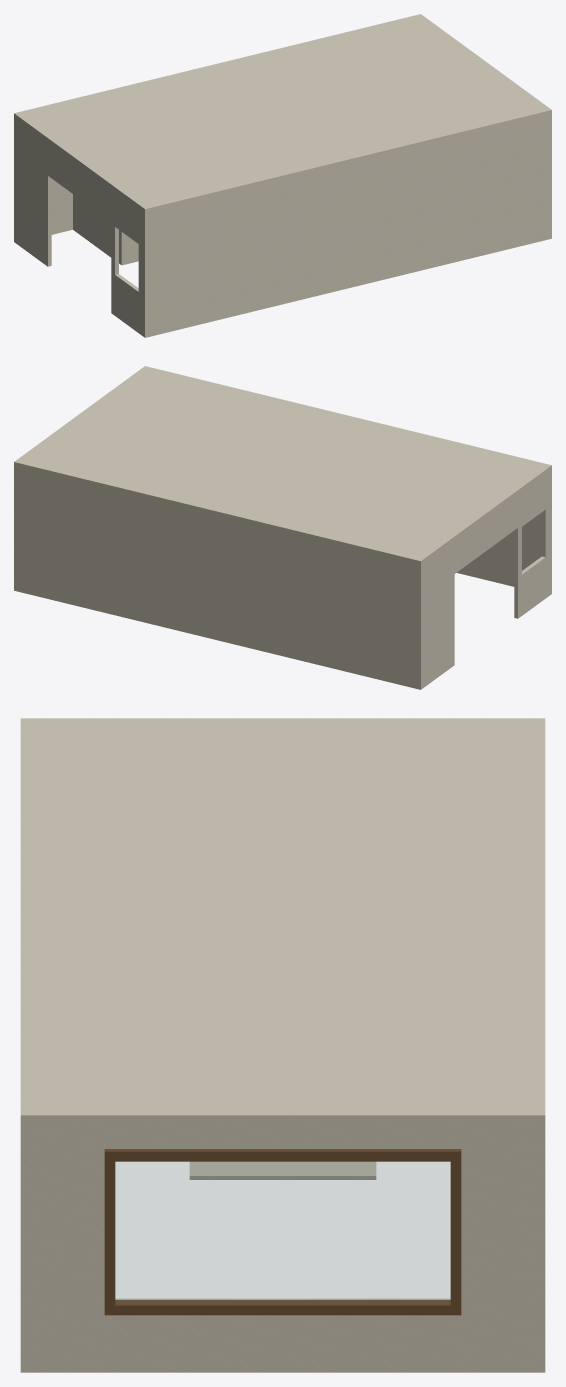
The model's file is NightGardenViewShell_410_r001.glb.
3 views of the same model, one above another, from view 1: azimuth 30°, elevation 25°; view 2: azimuth 150°, elevation 25°; view 3: azimuth 270°, elevation 25° (orthographic). The views are drawn at different scales.
Parts seen in each view (by area): view 1: NG410_RuntimeBatch_001; view 2: NG410_RuntimeBatch_001; view 3: NG410_RuntimeBatch_001, NVG_410_PrivateViewPane, NVG_410_ViewFrame_Sill, NVG_410_ViewFrame_Head, NVG_410_ViewFrame_Left, NVG_410_ViewFrame_Right.
Part boxes in pixels (<box>): NG410_RuntimeBatch_001: <box>14,14,551,337</box>; NG410_RuntimeBatch_001: <box>14,366,551,689</box>; NG410_RuntimeBatch_001: <box>20,718,545,1372</box>; NVG_410_PrivateViewPane: <box>115,1162,450,1302</box>; NVG_410_ViewFrame_Sill: <box>104,1300,461,1315</box>; NVG_410_ViewFrame_Head: <box>104,1149,461,1161</box>; NVG_410_ViewFrame_Left: <box>450,1161,461,1305</box>; NVG_410_ViewFrame_Right: <box>104,1161,115,1305</box>.
Bounding box in the file's own units: 12.99 × 3.9 × 7.2.
Materials: 3 (1 with a texture image).
